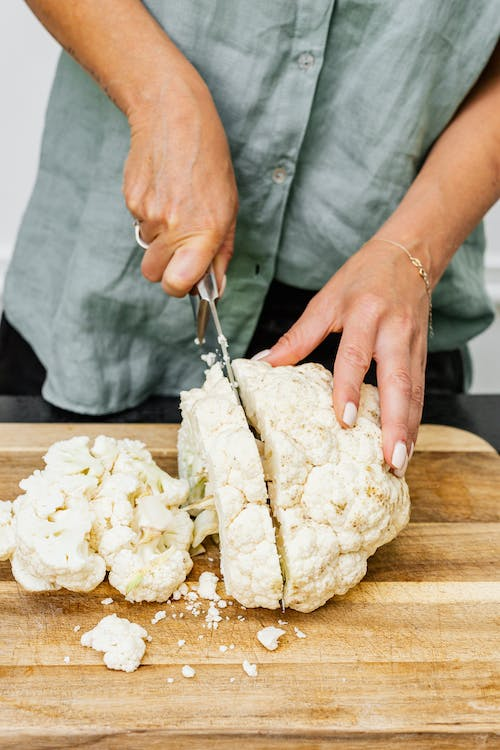knife: (188, 261, 243, 404)
